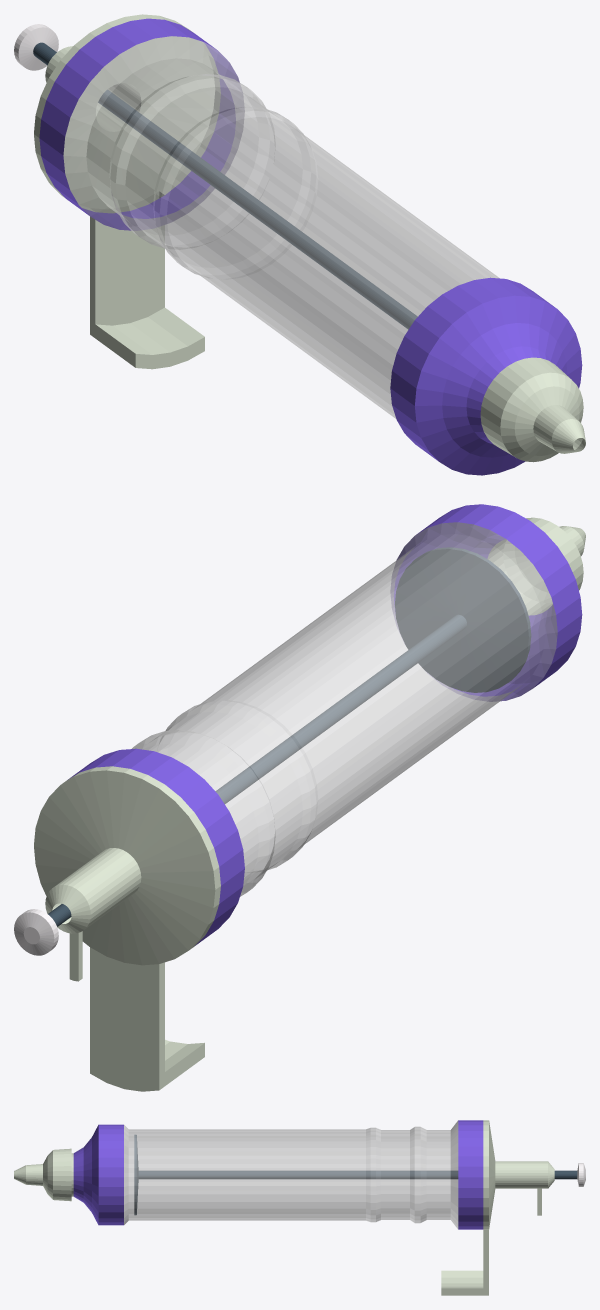
File: Icing Gun.fbx
3 renders of one model, top to bottom at view 1: azimuth 30°, elevation 25°; view 2: azimuth 150°, elevation 25°; view 3: azimuth 270°, elevation 25°, orthographic. The views are drawn at different scales.
Parts seen in each view (by area): view 1: Frame, Pump; view 2: Frame, Pump; view 3: Frame, Pump.
Boxes of the visible parts, box(x1,y1,x2,y2) form: Frame: box(34, 14, 585, 475); Pump: box(14, 24, 417, 329); Frame: box(34, 504, 585, 1091); Pump: box(14, 547, 531, 955); Frame: box(14, 1120, 554, 1295); Pump: box(134, 1134, 585, 1215).
Bounding box in the file's own units: 202 × 336 × 1055.
